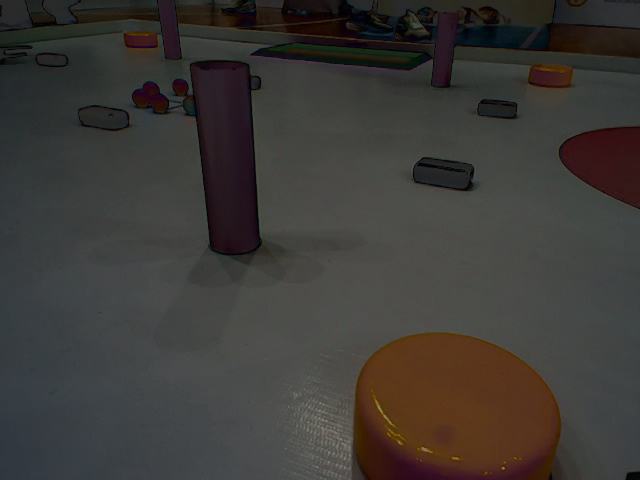black: (413, 154, 480, 194), (77, 102, 129, 136), (473, 93, 517, 118), (35, 49, 69, 68)
red: (133, 88, 154, 106), (151, 92, 168, 110), (141, 79, 159, 95), (173, 78, 187, 92)
yellow: (351, 335, 565, 478), (528, 63, 576, 86), (124, 29, 159, 47)
zhuzi: (190, 61, 267, 259), (426, 15, 458, 88), (156, 1, 185, 61)
